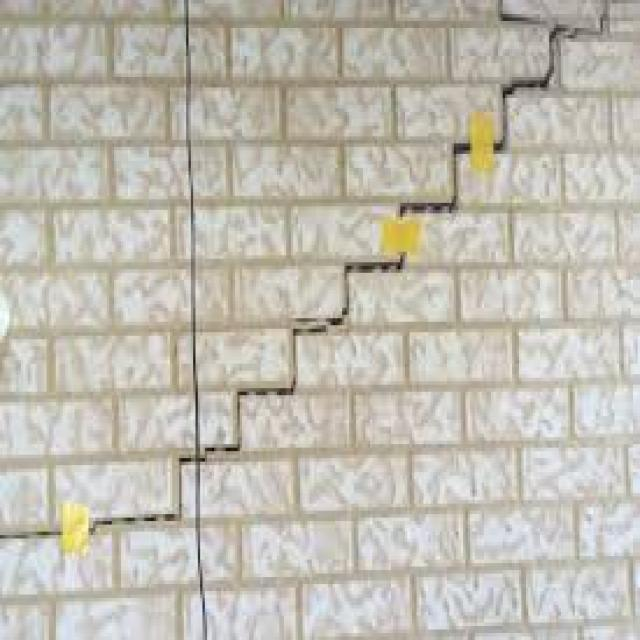Crack: (84, 14, 605, 525)
